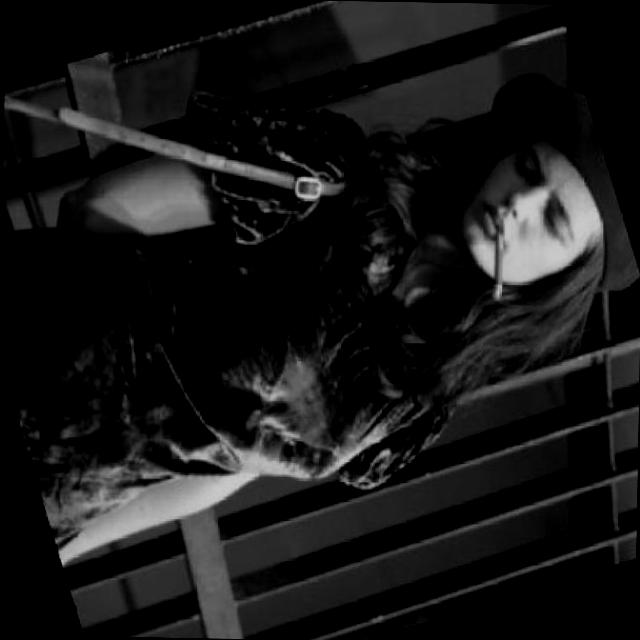smoke: (468, 218, 523, 306)
